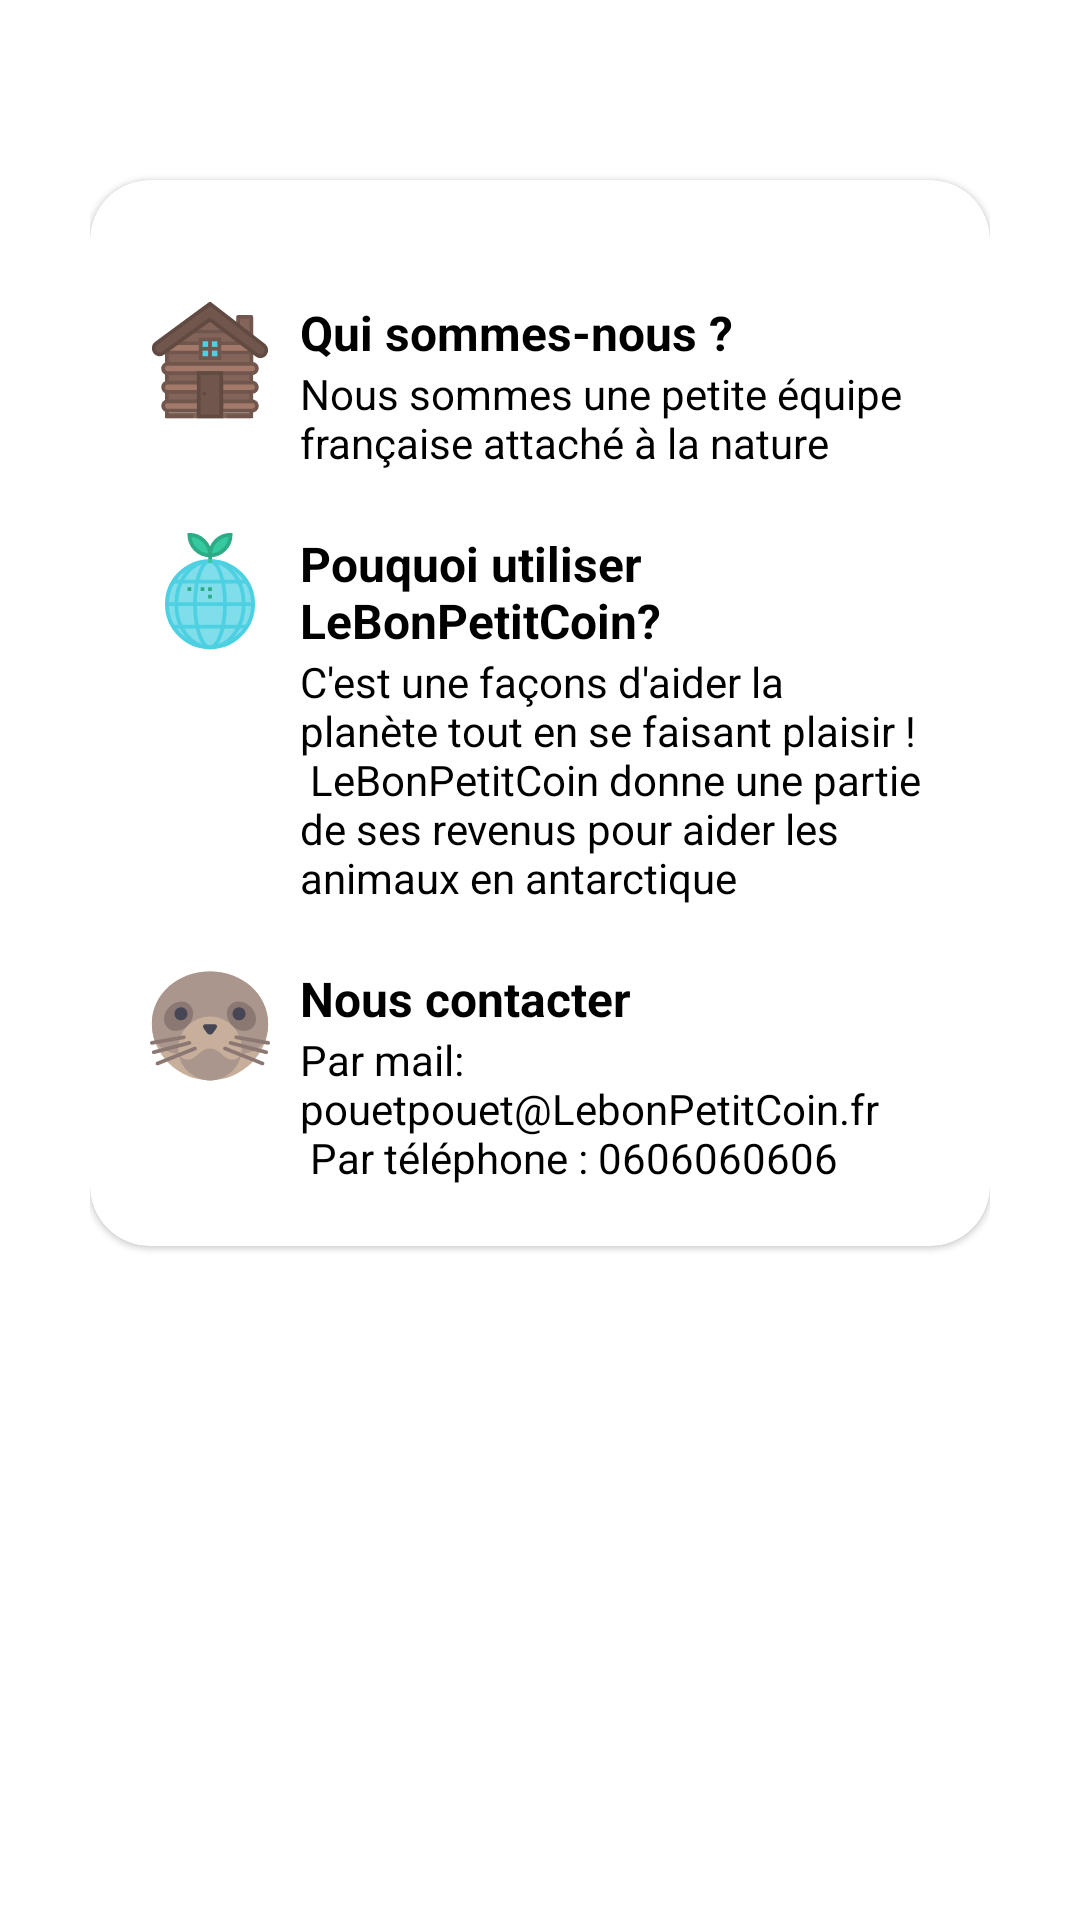

Icon bounding boxes for this 1080px×1920px phone screenshot, format bbox(x1, y1, x2, y2):
cabin: bbox(152, 302, 268, 419)
globe world leaves: bbox(165, 533, 255, 650)
sealbrown: bbox(150, 971, 270, 1081)
